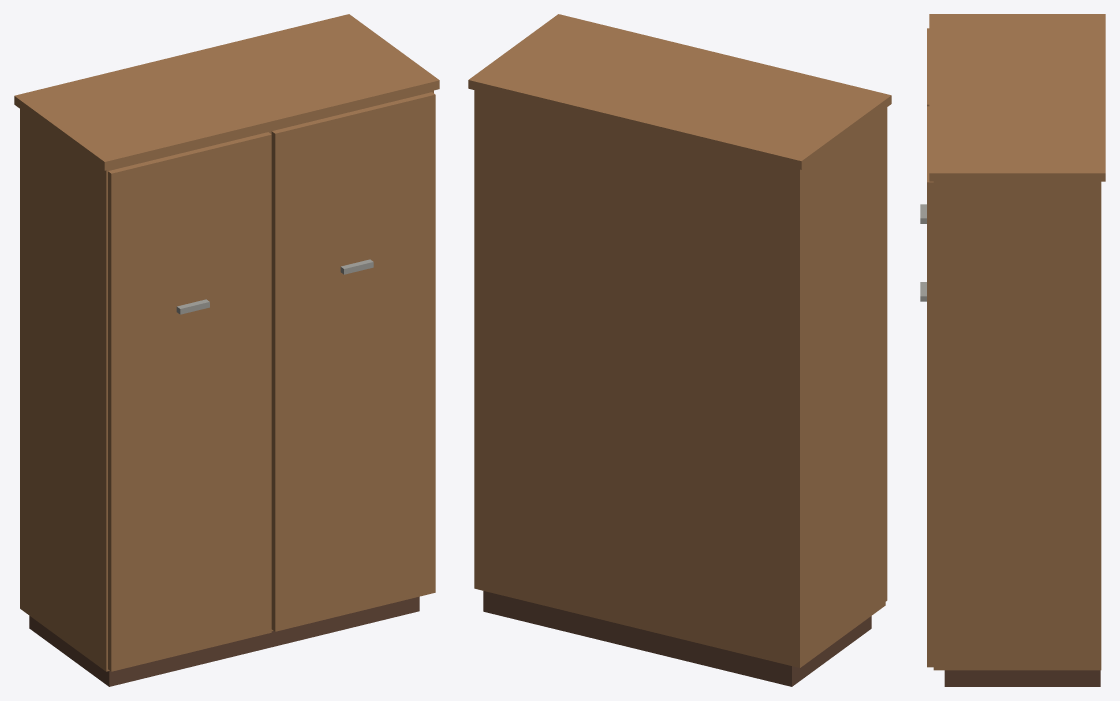
File: wardrobe.glb
The picture shows the model from 3 angles, left to right: view 1: azimuth 30°, elevation 25°; view 2: azimuth 150°, elevation 25°; view 3: azimuth 270°, elevation 25°; orthographic projection. The views are drawn at different scales.
Visible parts, largest first — view 1: Door.001, Door, Case, Top.002, Plinth; view 2: Case, Top.002, Plinth, Door; view 3: Case, Top.002, Door.001, Plinth.
Boxes of the visible parts, left/top/right/bottom form: Door.001: left=271, top=92, right=435, bottom=631; Door: left=108, top=132, right=271, bottom=671; Case: left=20, top=90, right=433, bottom=671; Top.002: left=14, top=14, right=439, bottom=170; Plinth: left=29, top=596, right=419, bottom=686; Case: left=474, top=90, right=885, bottom=667; Top.002: left=468, top=14, right=891, bottom=169; Plinth: left=483, top=591, right=871, bottom=686; Door: left=885, top=107, right=887, bottom=601; Case: left=933, top=181, right=1101, bottom=670; Top.002: left=929, top=14, right=1105, bottom=181; Door.001: left=927, top=106, right=933, bottom=667; Plinth: left=944, top=670, right=1100, bottom=686.
Size of the model in its own units: 1.36 by 2.07 by 0.67.
